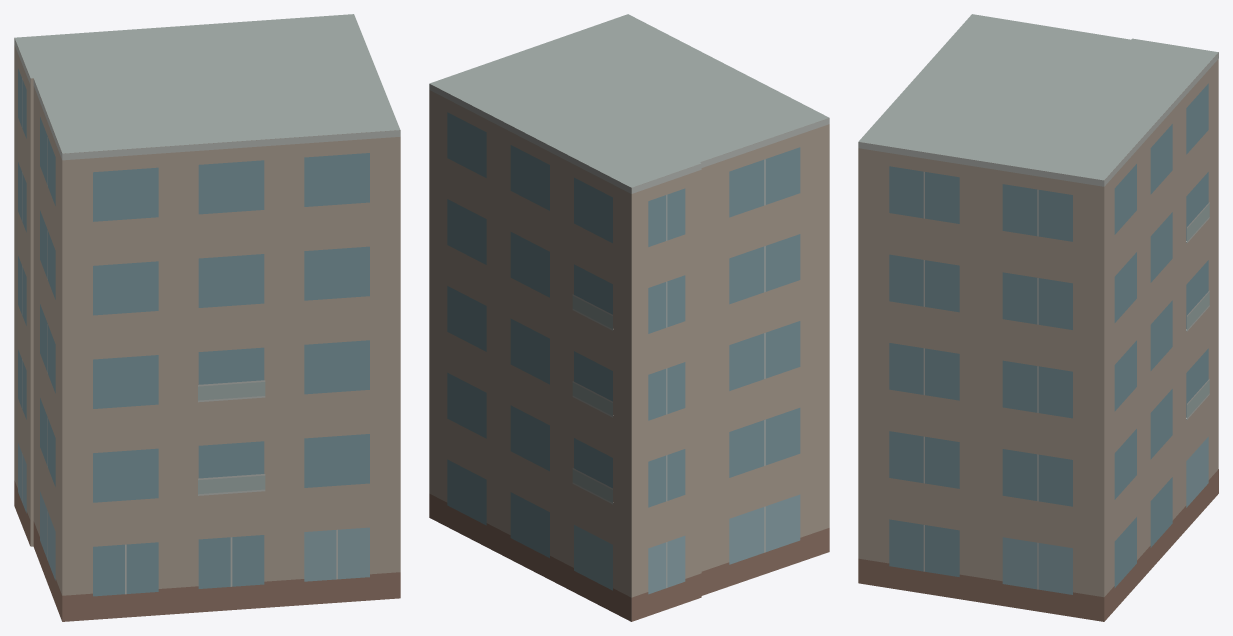
The model's file is survey-upis-32955441.glb.
The picture shows the model from 3 angles, left to right: view 1: azimuth 30°, elevation 25°; view 2: azimuth 150°, elevation 25°; view 3: azimuth 270°, elevation 25°; orthographic projection. The views are drawn at different scales.
Parts seen in each view (by area): view 1: survey-upis-32955441.tmp; view 2: survey-upis-32955441.tmp; view 3: survey-upis-32955441.tmp.
Part boxes in pixels (x1,y1,x2,y2): survey-upis-32955441.tmp: [14, 14, 400, 621]; survey-upis-32955441.tmp: [429, 14, 829, 621]; survey-upis-32955441.tmp: [858, 14, 1218, 621].
Bounding box in the file's own units: 13.68 × 16.9 × 12.52.
